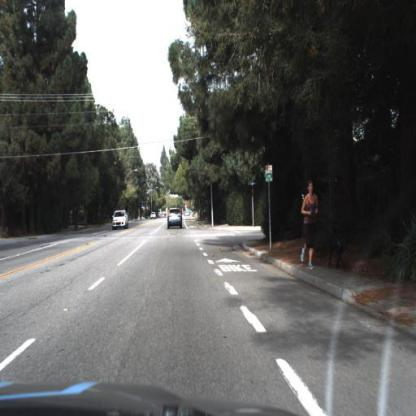car: (108, 208, 130, 234), (166, 208, 184, 234), (111, 207, 129, 229)
pedestrian: (301, 182, 322, 273)
